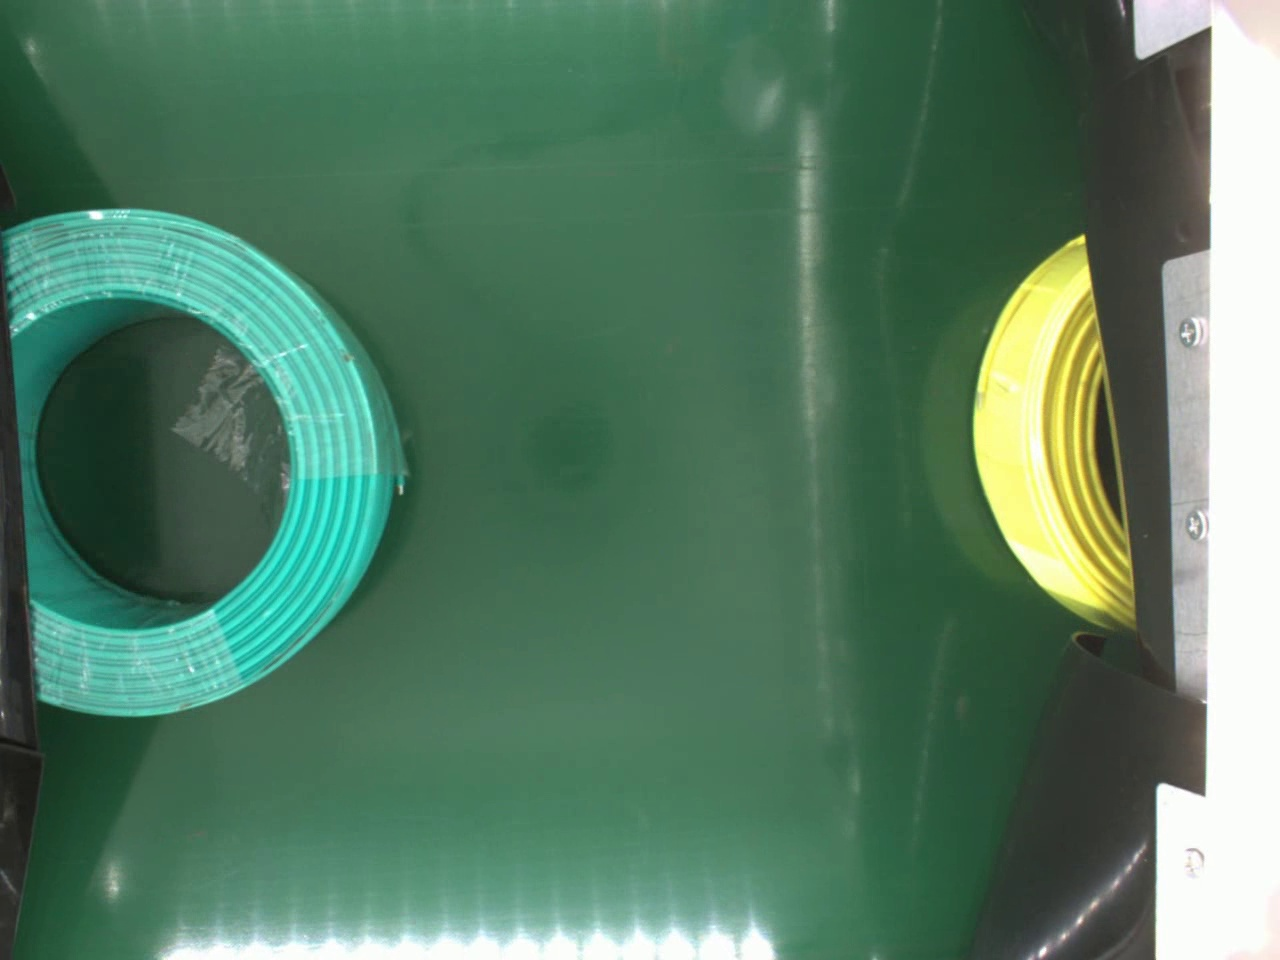green: (4, 207, 406, 718)
yellow: (970, 227, 1135, 636)
